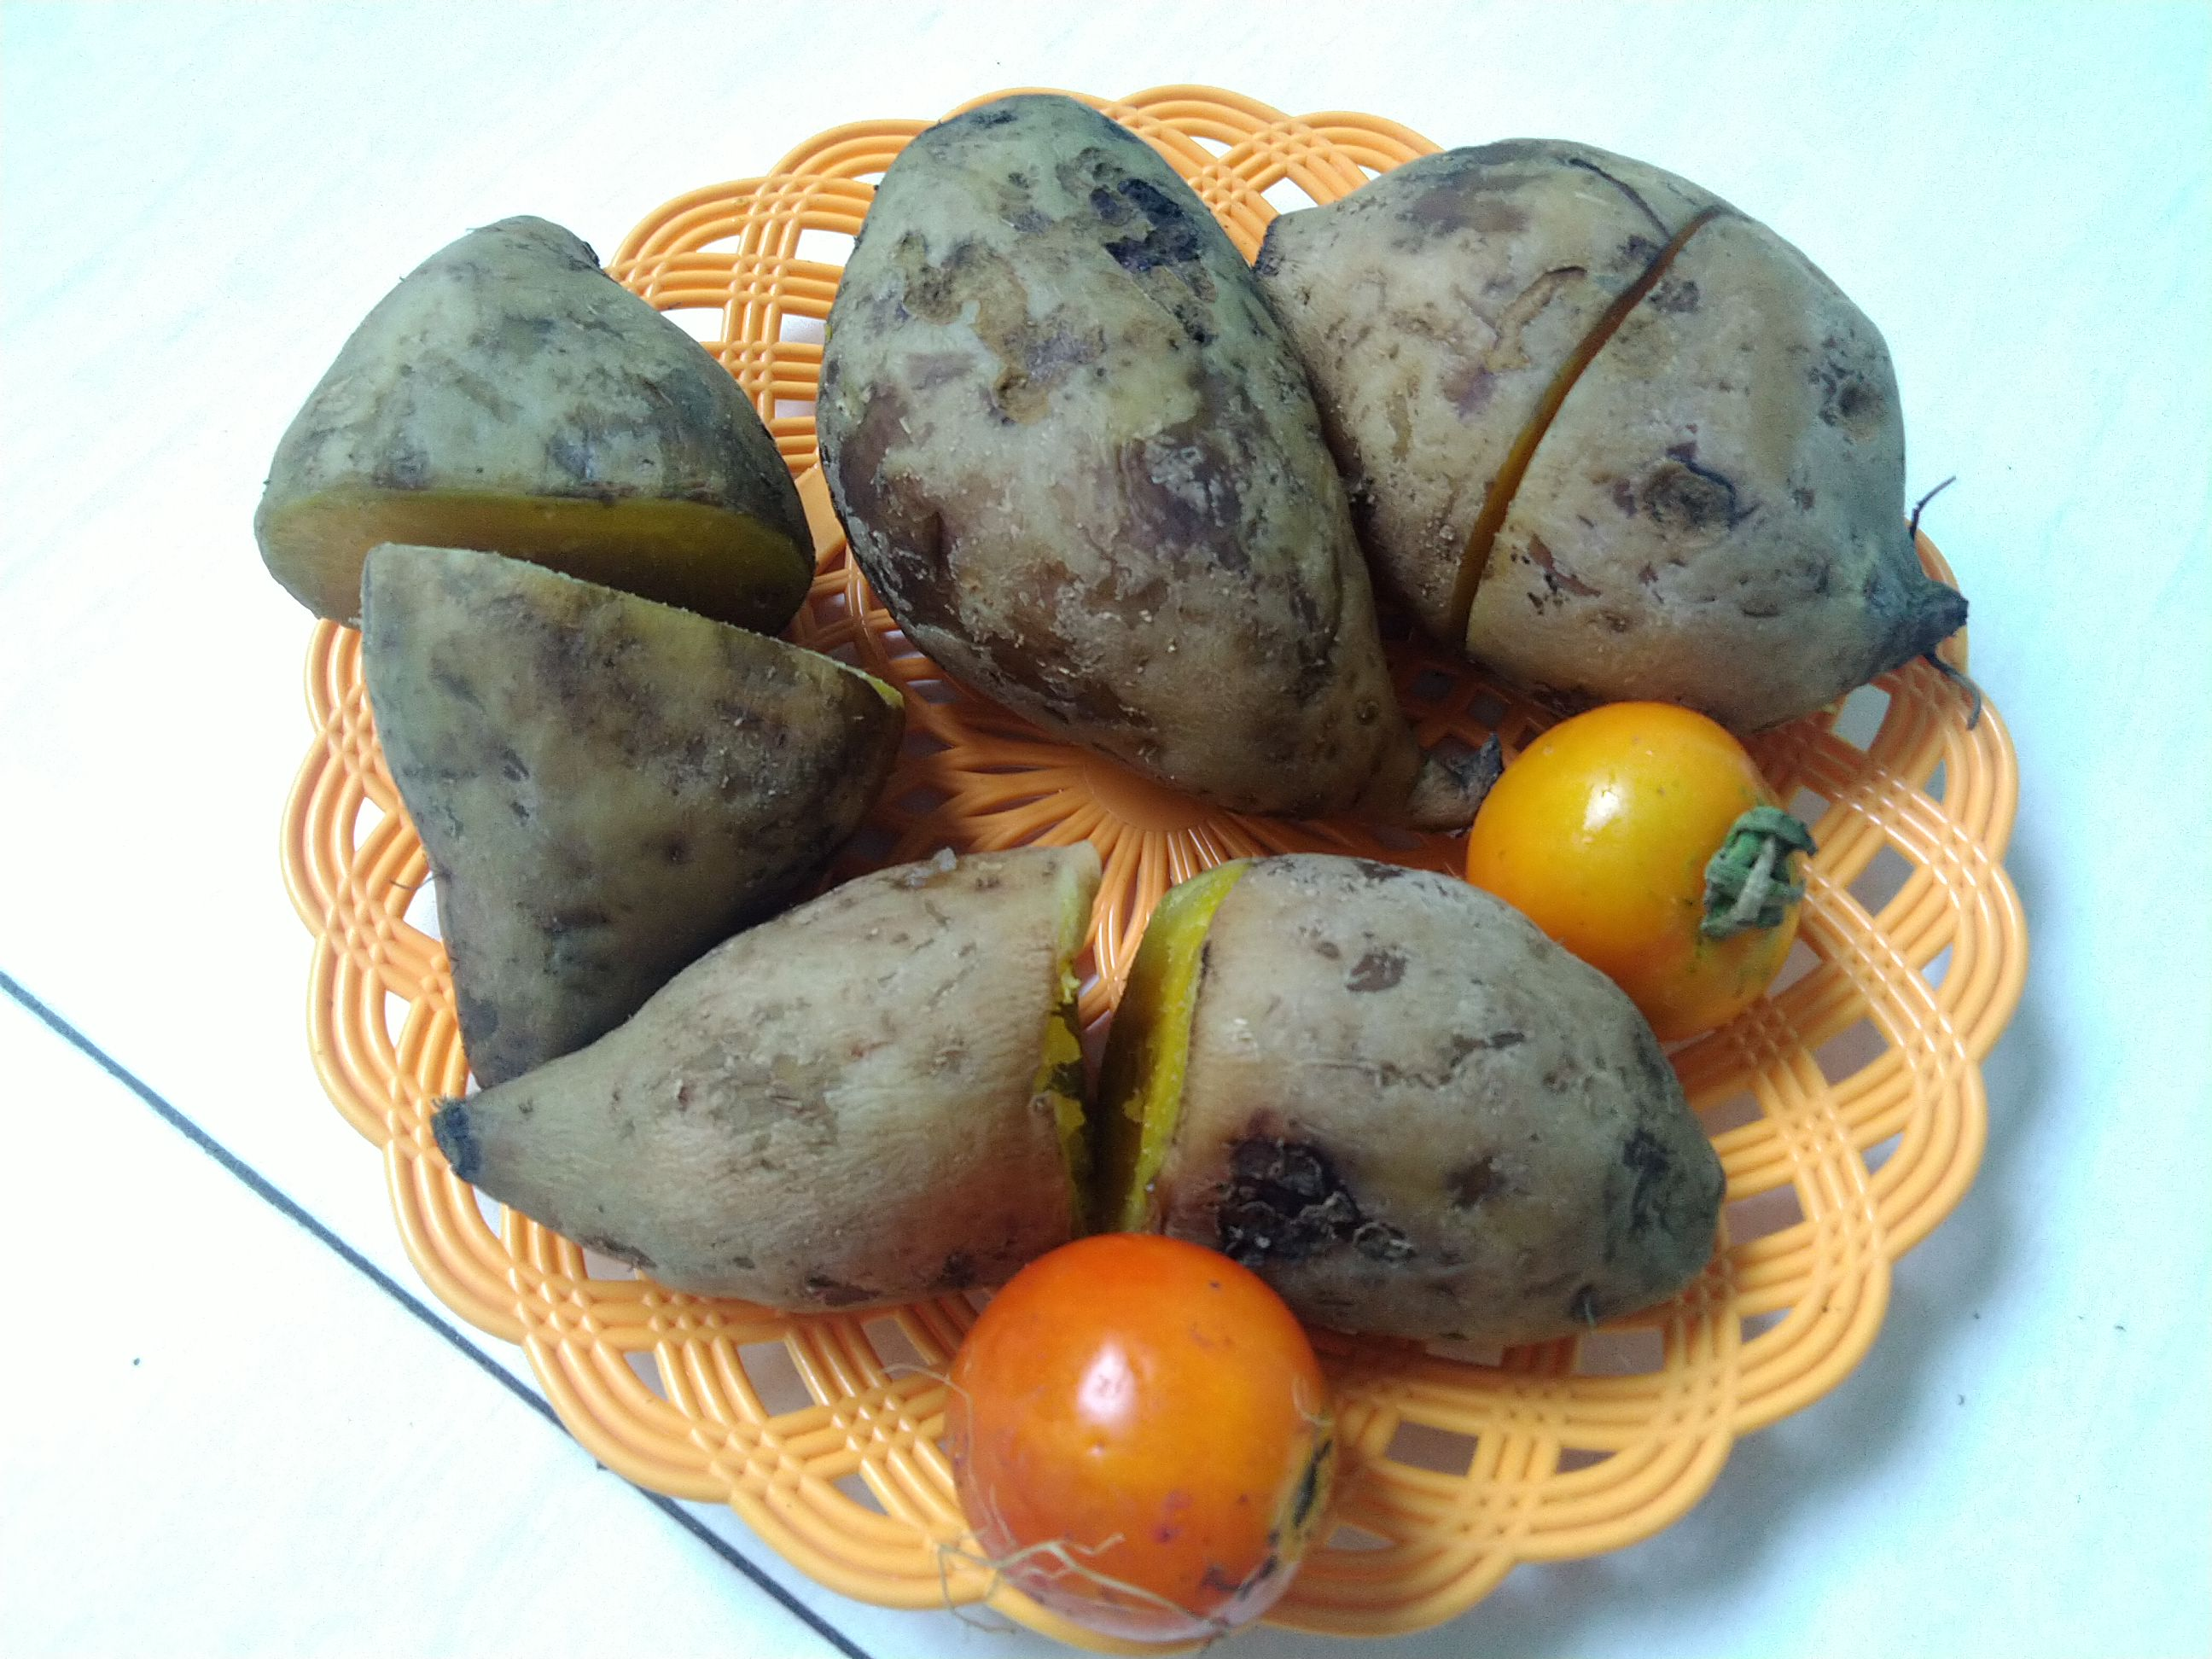ubi kuning: (813, 87, 1444, 819), (1247, 124, 1982, 721), (1082, 835, 1737, 1344), (428, 817, 1103, 1303), (333, 528, 906, 1093), (249, 192, 817, 624)
